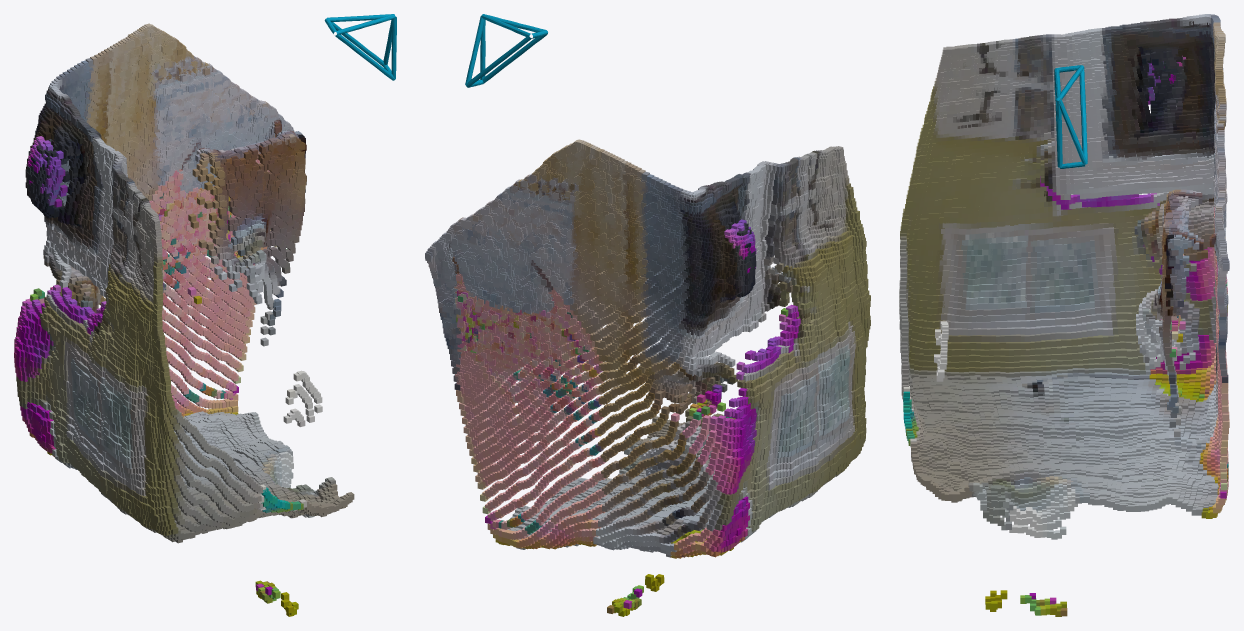
Rendered from pred_0-compressed.glb.
3 renders of one model, left to right at view 1: azimuth 30°, elevation 25°; view 2: azimuth 150°, elevation 25°; view 3: azimuth 270°, elevation 25°, orthographic. The views are drawn at different scales.
Bounding box in the file's own units: 3.05 × 5.05 × 2.56.
